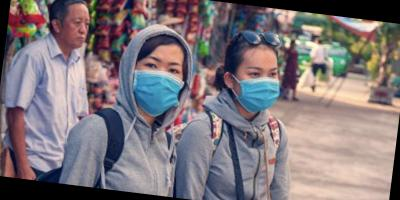with_mask: (130, 53, 188, 122), (231, 61, 284, 118)
without_mask: (61, 14, 89, 48)
